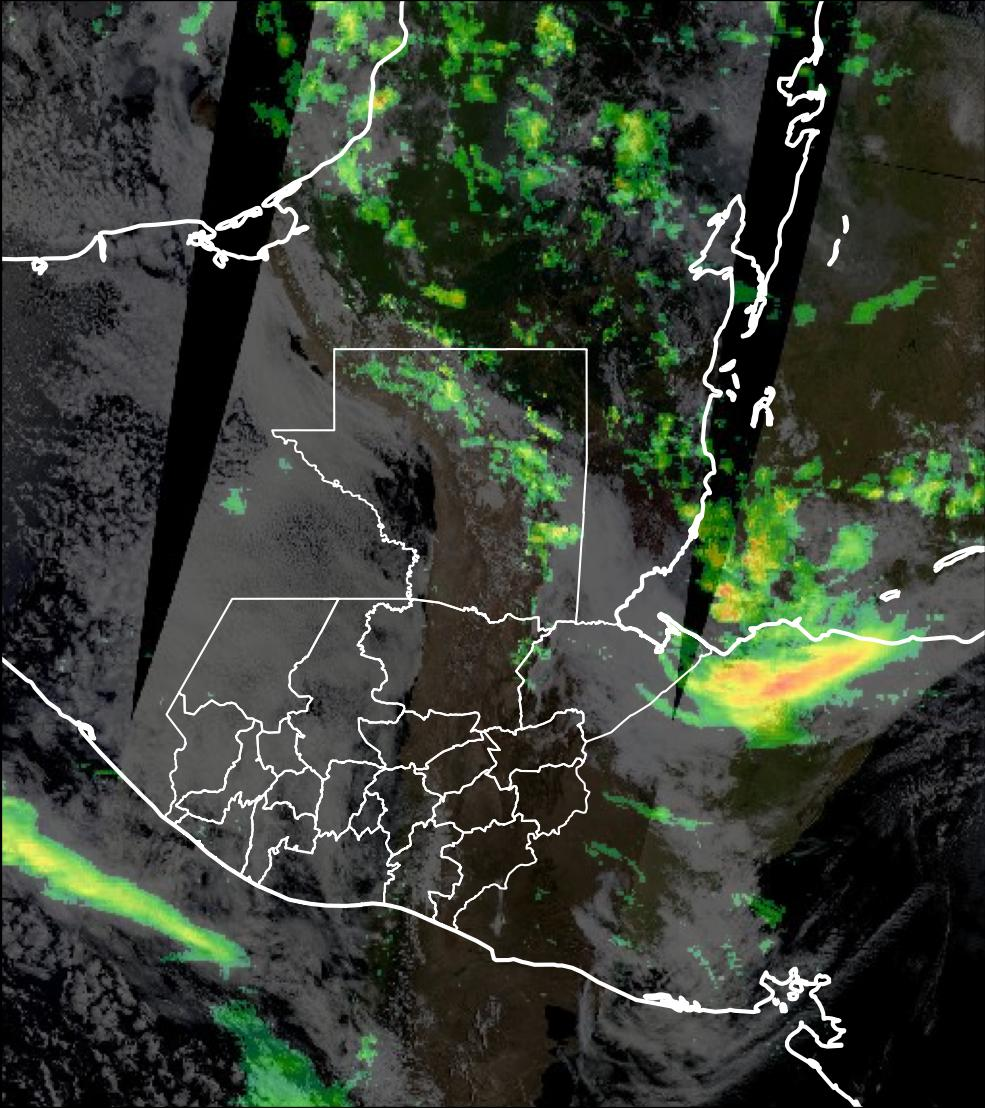precipitacion: (718, 650, 877, 722)
